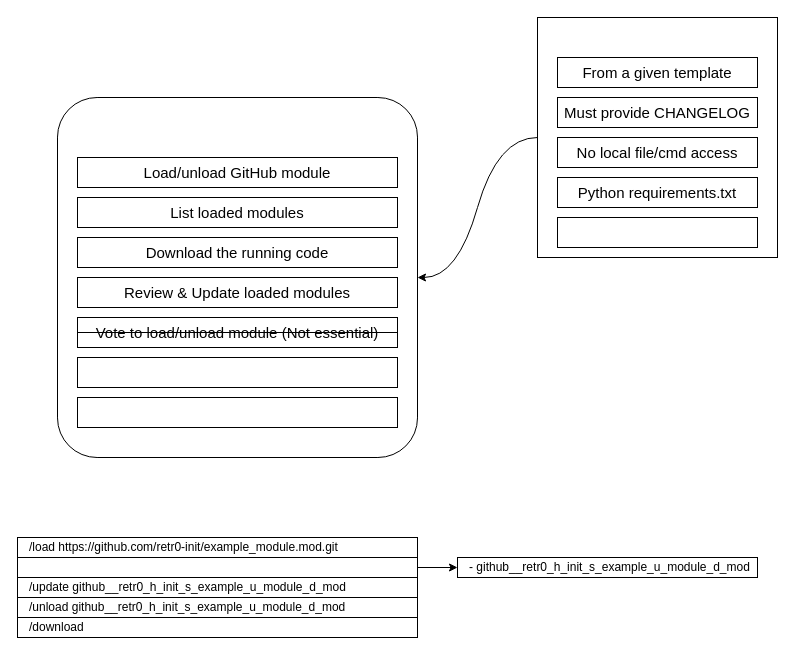
This 795x655 diagram has some shape labels left out. The box of each missing label's shape, as (x1, y1, x2, y2) in pixels:
/list installed_module: (16, 556, 418, 578)
Bot Kernel: (56, 96, 418, 458)
Module on GitHub: (536, 16, 778, 258)
